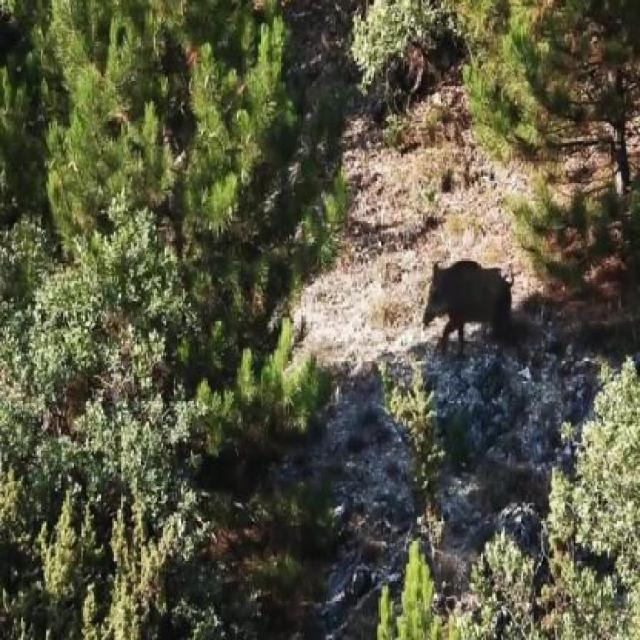Boar: (400, 233, 543, 364)
